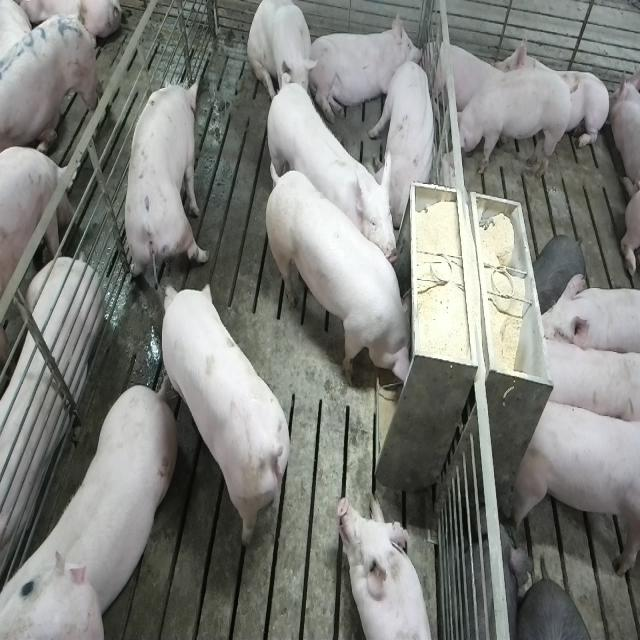Feeding: (269, 164, 422, 390)
Sitting: (374, 58, 437, 223), (247, 1, 320, 116)
Standing: (5, 376, 181, 632), (161, 281, 296, 553), (263, 77, 397, 270), (509, 393, 639, 580), (122, 74, 208, 294), (0, 1, 100, 163), (449, 71, 577, 177), (536, 330, 637, 428), (537, 274, 640, 360)
Sternal_lying: (339, 491, 438, 638), (495, 30, 609, 156), (309, 11, 424, 128), (427, 35, 502, 121)
